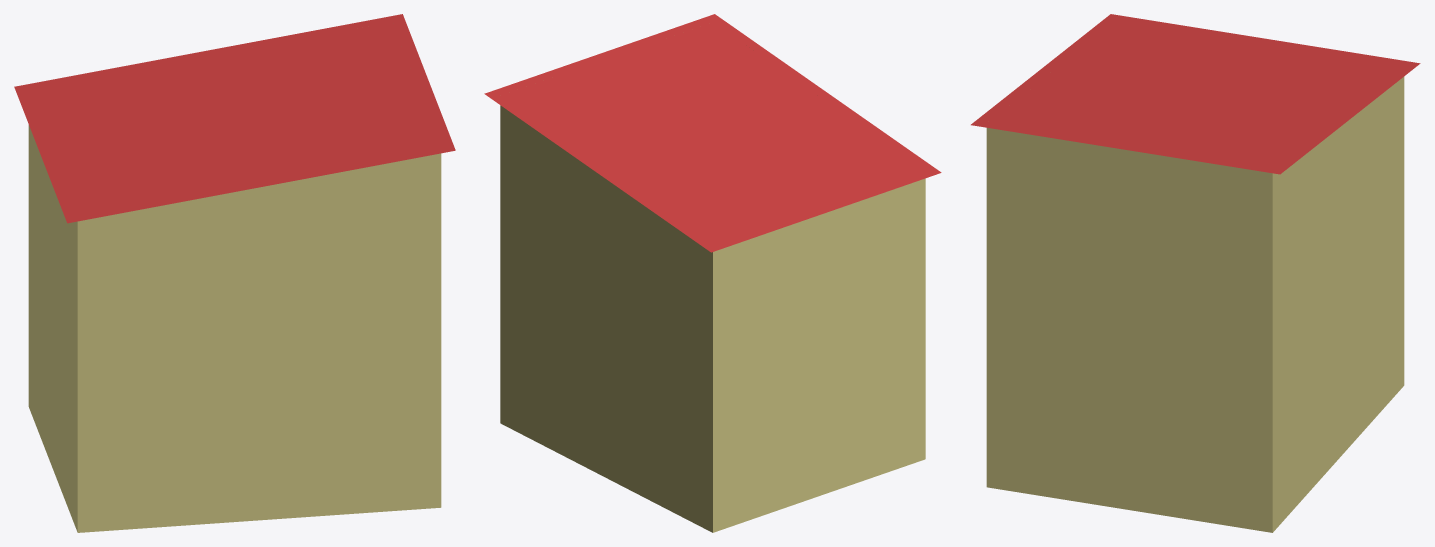
3 views of the same model, side by side, from view 1: azimuth 30°, elevation 25°; view 2: azimuth 150°, elevation 25°; view 3: azimuth 270°, elevation 25° (orthographic). The views are drawn at different scales.
Bounding box in the file's own units: 9.53 × 8.77 × 7.85.
